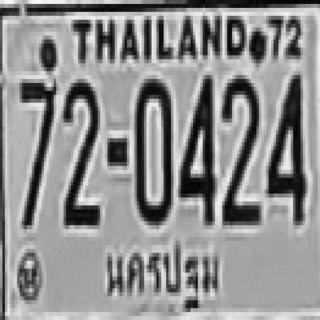N00: (134, 75, 171, 221)
N02: (221, 73, 258, 223), (61, 79, 98, 225)
N04: (265, 71, 304, 221), (178, 71, 215, 221)
N07: (17, 79, 56, 225)
P28: (102, 238, 222, 311)
